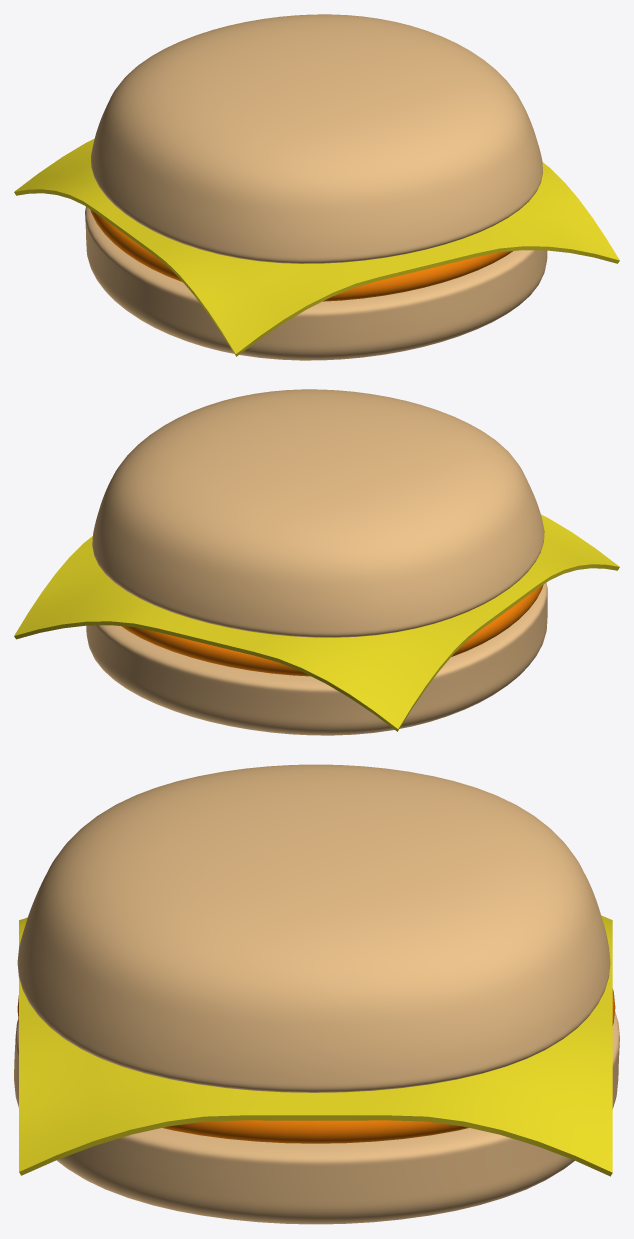
Rendered from humbarger.glb.
3 views of the same model, one above another, from view 1: azimuth 30°, elevation 25°; view 2: azimuth 150°, elevation 25°; view 3: azimuth 270°, elevation 25° (orthographic). The views are drawn at different scales.
Visible parts, largest first — view 1: 立方体.002, 平面, 立方体, 立方体.001; view 2: 立方体.002, 平面, 立方体, 立方体.001; view 3: 立方体.002, 平面, 立方体, 立方体.001.
Part boxes in pixels (x1,y1,x2,y2): 立方体.002: [91, 14, 542, 263]; 平面: [14, 138, 619, 356]; 立方体: [85, 207, 547, 360]; 立方体.001: [90, 209, 512, 301]; 立方体.002: [92, 389, 544, 637]; 平面: [14, 514, 619, 731]; 立方体: [86, 582, 547, 735]; 立方体.001: [121, 584, 543, 676]; 立方体.002: [17, 764, 610, 1092]; 平面: [19, 915, 612, 1176]; 立方体: [14, 1011, 619, 1224]; 立方体.001: [17, 989, 615, 1143].
Size of the model in its own units: 8.99 by 4.84 by 9.
